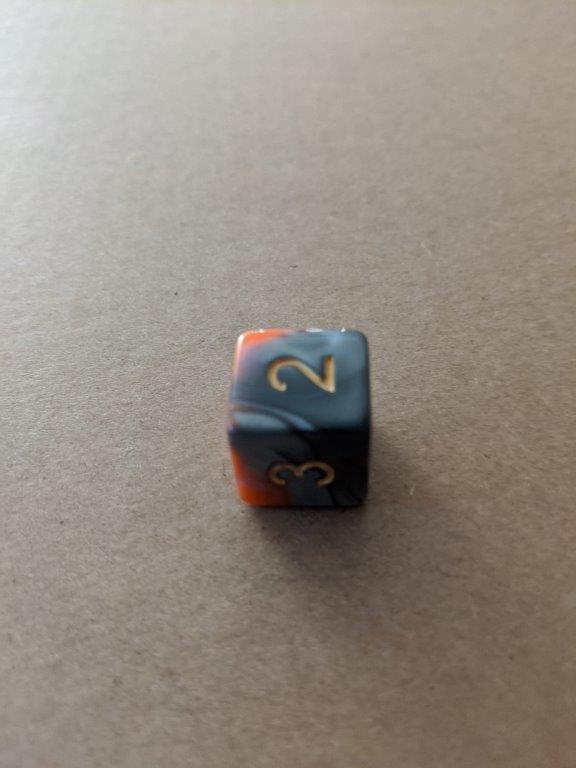d6-2: (226, 325, 373, 514)
